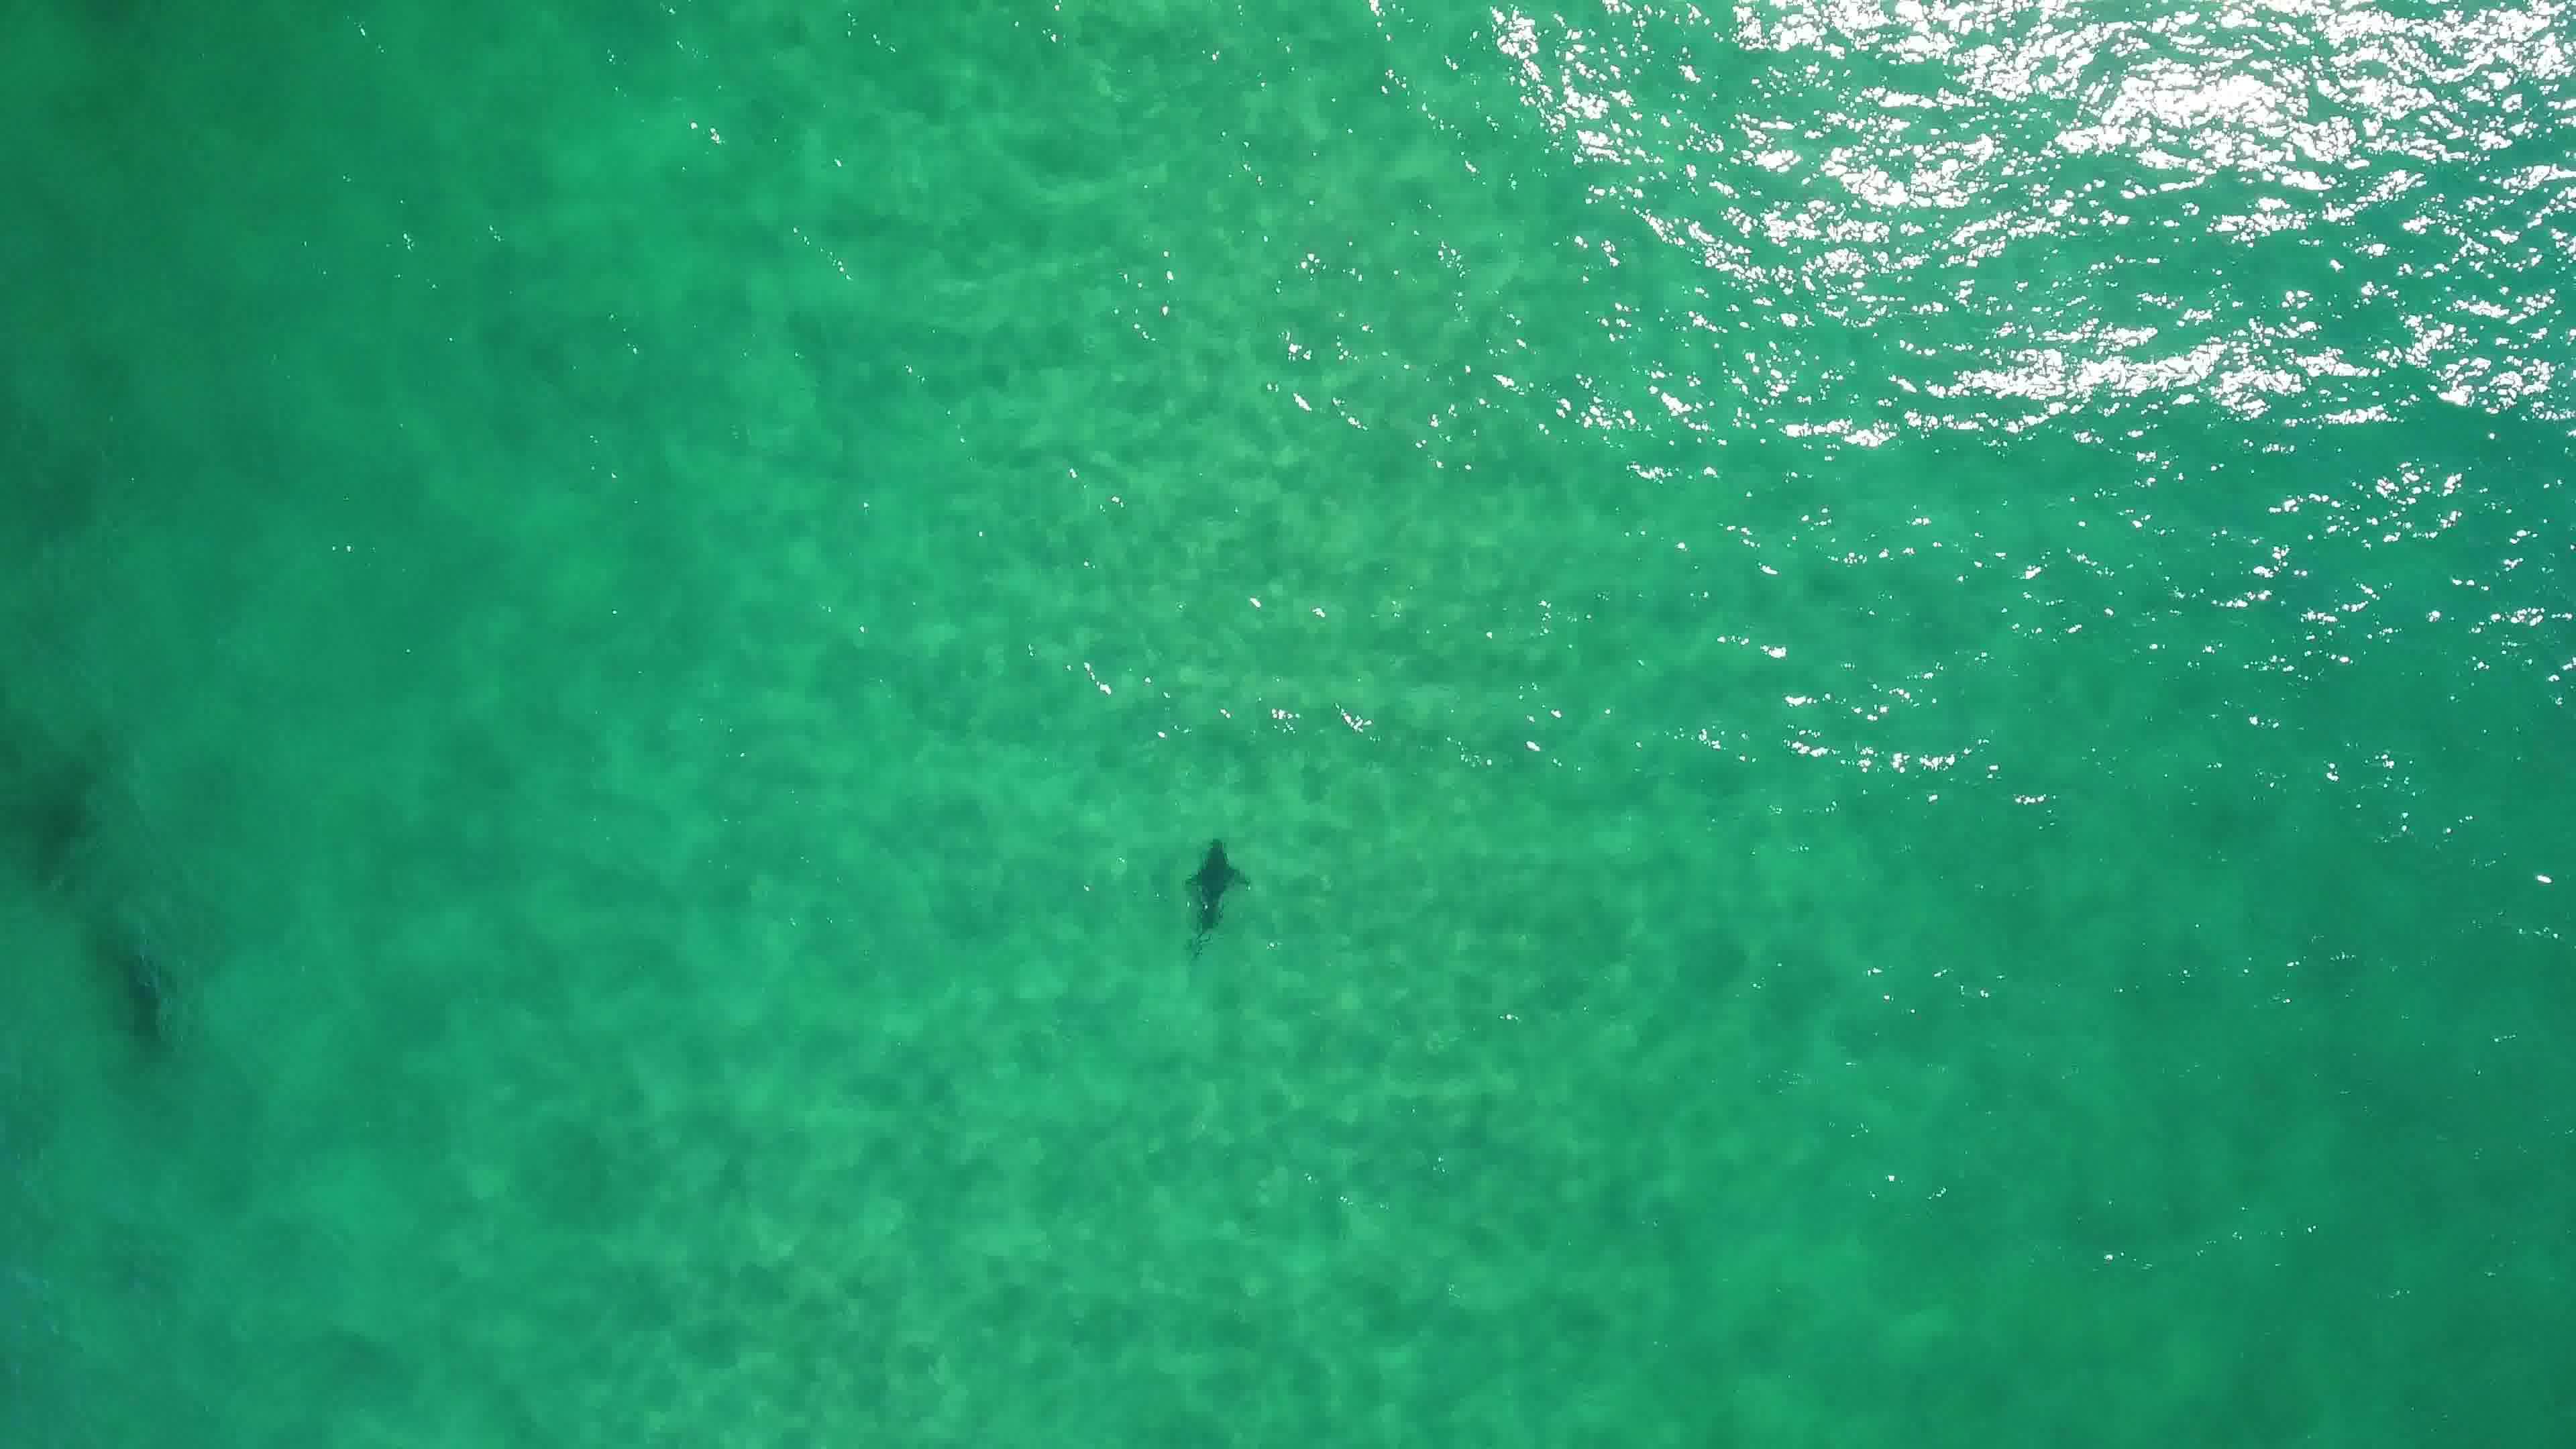shark: (1173, 835, 1254, 962)
